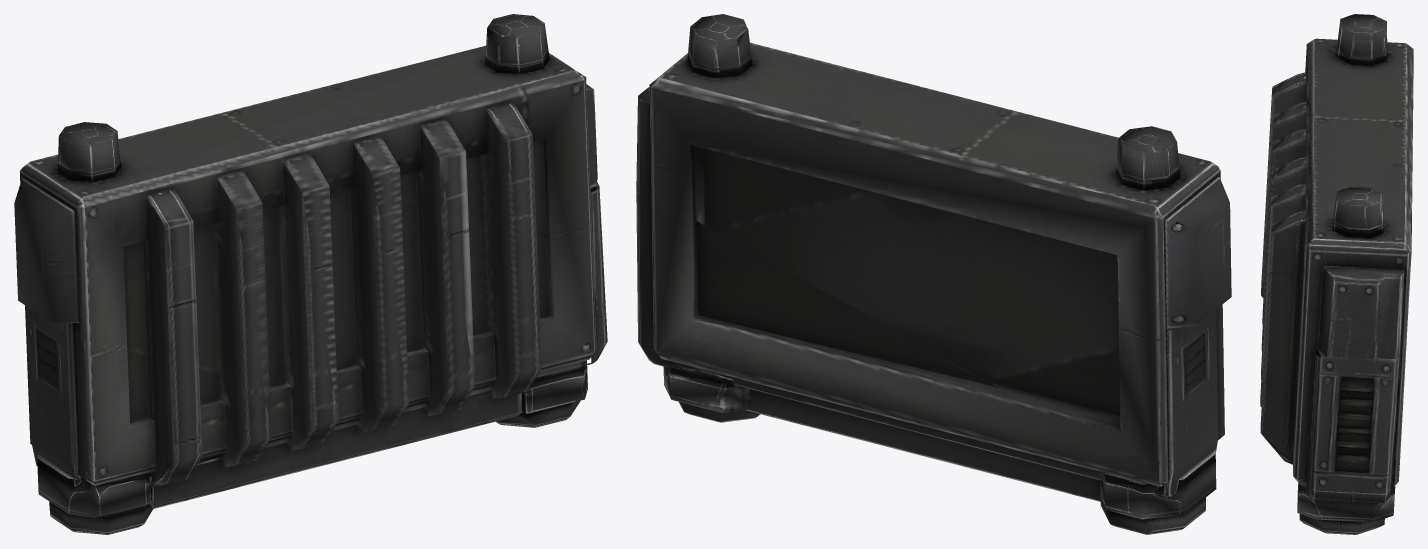
Rendered from cold-iron-v2-heatsink-c-cooling-plate.glb.
3 renders of one model, left to right at view 1: azimuth 30°, elevation 25°; view 2: azimuth 150°, elevation 25°; view 3: azimuth 270°, elevation 25°, orthographic. The views are drawn at different scales.
Visible parts, largest first — view 1: tripo_node_e9d25400-7287-45b4-b786-95d3a9a1b88f; view 2: tripo_node_e9d25400-7287-45b4-b786-95d3a9a1b88f; view 3: tripo_node_e9d25400-7287-45b4-b786-95d3a9a1b88f.
Part boxes in pixels (x1,y1,x2,y2): tripo_node_e9d25400-7287-45b4-b786-95d3a9a1b88f: [14, 14, 607, 534]; tripo_node_e9d25400-7287-45b4-b786-95d3a9a1b88f: [636, 14, 1231, 534]; tripo_node_e9d25400-7287-45b4-b786-95d3a9a1b88f: [1260, 14, 1413, 534].
Bounding box in the file's own units: 1 × 0.6693 × 0.2829.
1 material, 1 textured.
